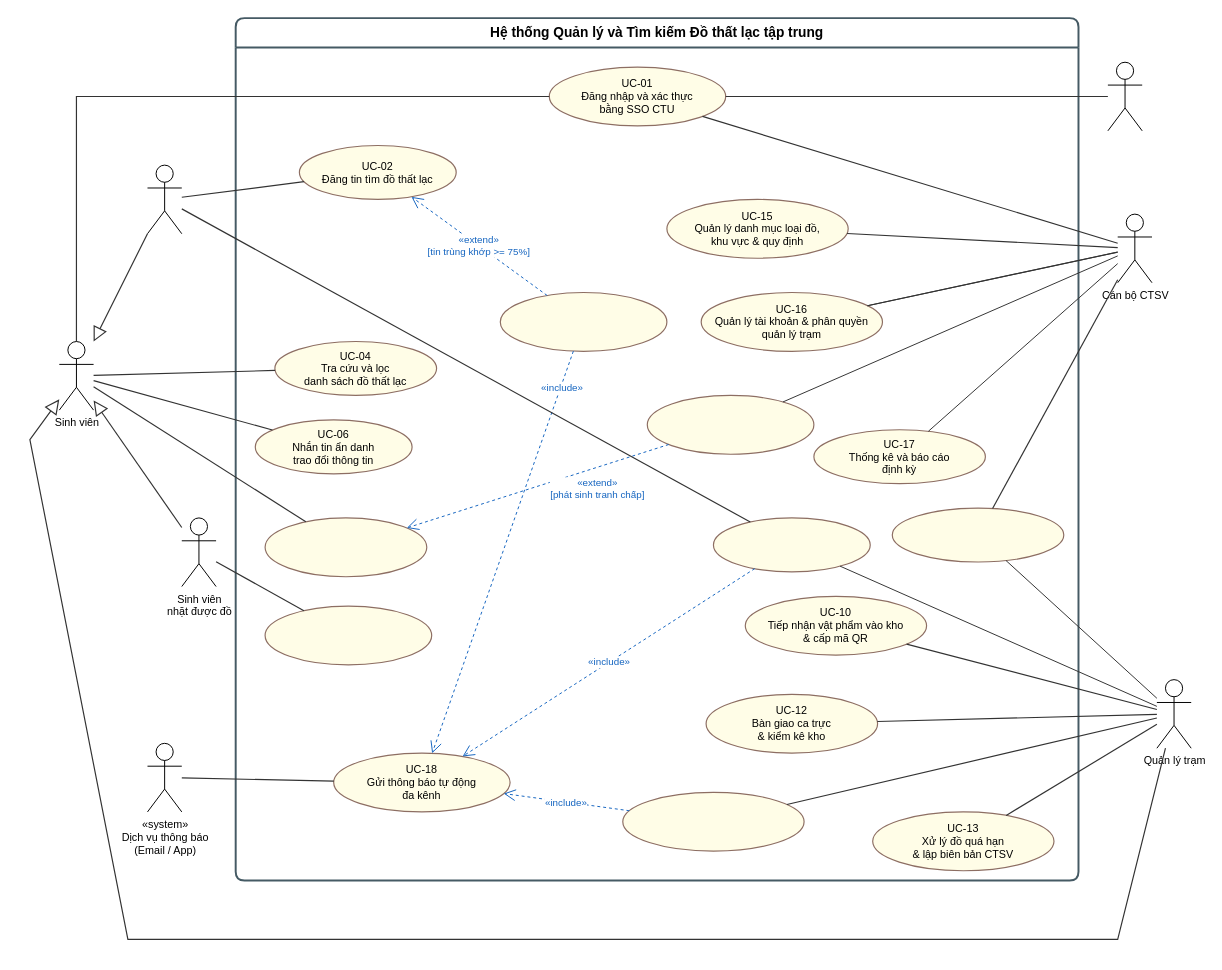
Some shapes in this 1222 by 970 pixel diagram are drawn without their labels. The box of each missing label's shape, as (x1, y1, x2, y2) in pixels:
Sinh viên thất lạc đồ: (147, 164, 182, 234)
UC-03 Đăng tin nhặt được đồ (kèm câu hỏi xác minh): (264, 605, 432, 665)
UC-05 Tự động so khớp và gợi ý tin thất lạc: (499, 291, 667, 351)
UC-07 Xác minh quyền sở hữu đồ thất lạc: (264, 517, 427, 577)
UC-08 Tiếp nhận và xử lý tranh chấp nhận đồ: (646, 394, 814, 454)
UC-09 Đặt và quản lý lịch hẹn tại trạm: (712, 517, 870, 572)
UC-11 Quét mã QR & giao trả đồ trực tiếp tại trạm: (622, 791, 804, 851)
UC-14 Kiểm duyệt tin đăng & xử lý vi phạm: (891, 507, 1064, 562)
«system» SSO CTU: (1107, 61, 1142, 131)
